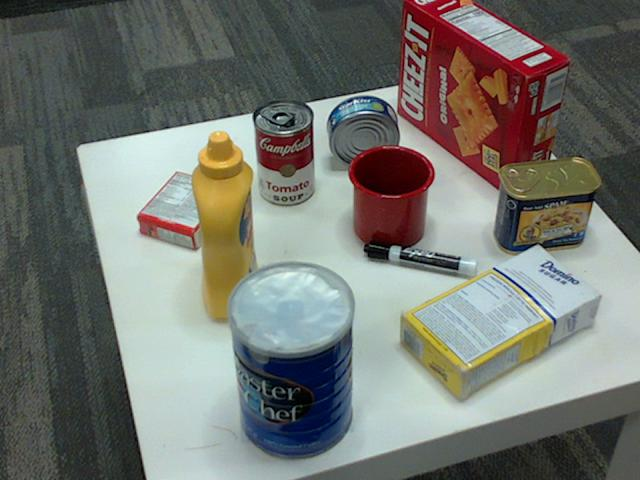cracker_box: (397, 0, 569, 194)
gelatin_box: (134, 168, 231, 247)
large_marker: (364, 241, 478, 281)
master_chef_can: (225, 263, 353, 462)
mug: (345, 144, 433, 248)
mustard_bottle: (188, 131, 258, 319)
potted_meat_can: (492, 158, 598, 255)
sugar_box: (396, 244, 598, 400)
tomato_soup_can: (252, 99, 313, 206)
tuna_fish_can: (325, 95, 398, 168)
